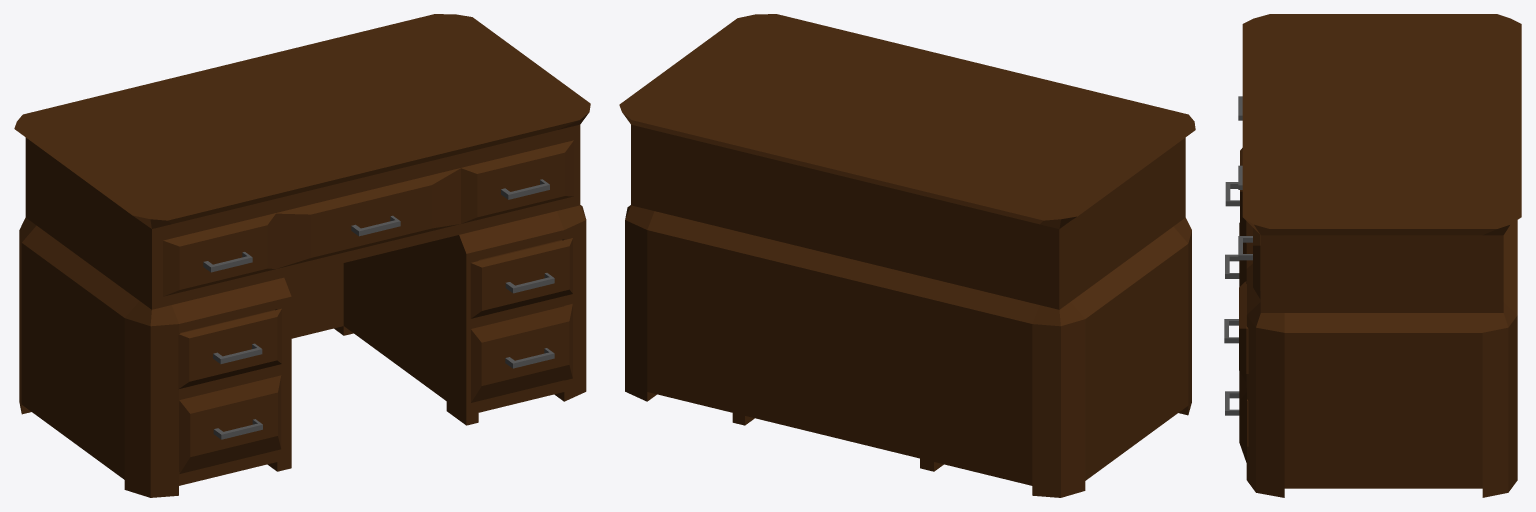
File: CPI441_Desk_O1_V2.fbx
3 views of the same model, side by side, from view 1: azimuth 30°, elevation 25°; view 2: azimuth 150°, elevation 25°; view 3: azimuth 270°, elevation 25° (orthographic). The views are drawn at different scales.
Visible parts, largest first — view 1: Cube.002; view 2: Cube.002; view 3: Cube.002.
Part boxes in pixels (<box>): Cube.002: <box>14,14,590,497</box>; Cube.002: <box>619,14,1195,497</box>; Cube.002: <box>1224,14,1521,497</box>.
Size of the model in its own units: 1149 by 670 by 671.
